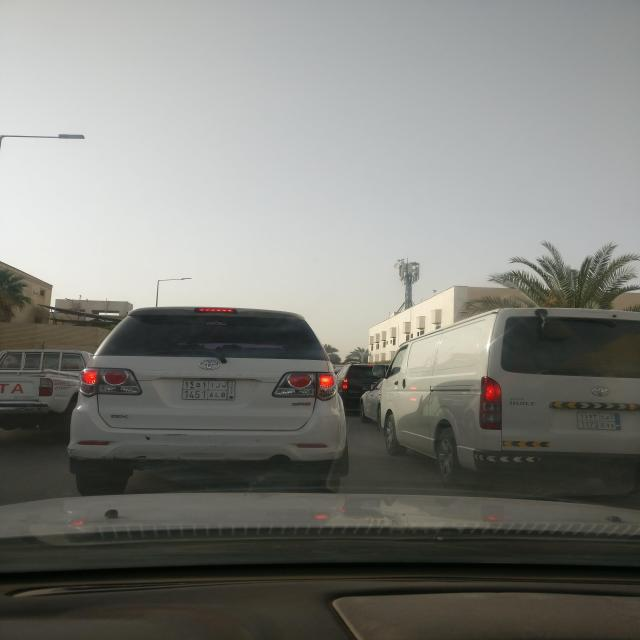license_plate: (181, 379, 237, 401), (576, 412, 621, 431)
